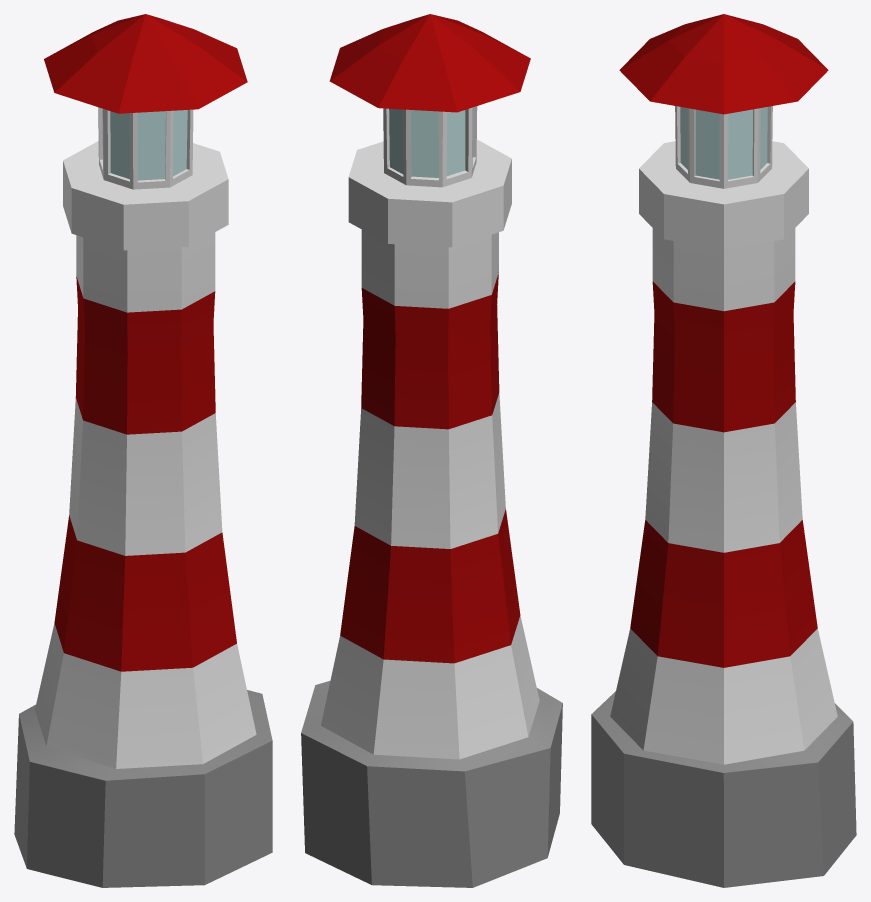
File: GameJam_Leuchtturm.fbx
3 views of the same model, side by side, from view 1: azimuth 30°, elevation 25°; view 2: azimuth 150°, elevation 25°; view 3: azimuth 270°, elevation 25° (orthographic).
Parts seen in each view (by area): view 1: Leuchtturm; view 2: Leuchtturm; view 3: Leuchtturm.
Part boxes in pixels (x1,y1,x2,y2): Leuchtturm: (14, 14, 272, 887); Leuchtturm: (301, 14, 562, 887); Leuchtturm: (591, 14, 856, 887).
Bounding box in the file's own units: 3.65 × 12.3 × 3.58.
